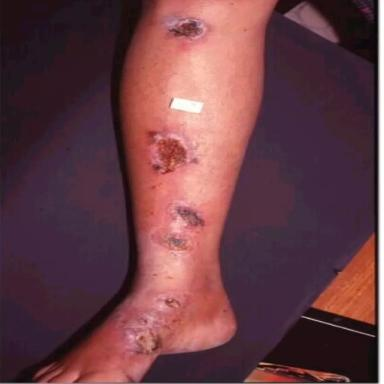Leishmanios: (122, 293, 191, 354), (154, 202, 204, 254), (148, 131, 198, 174), (166, 17, 208, 41)
